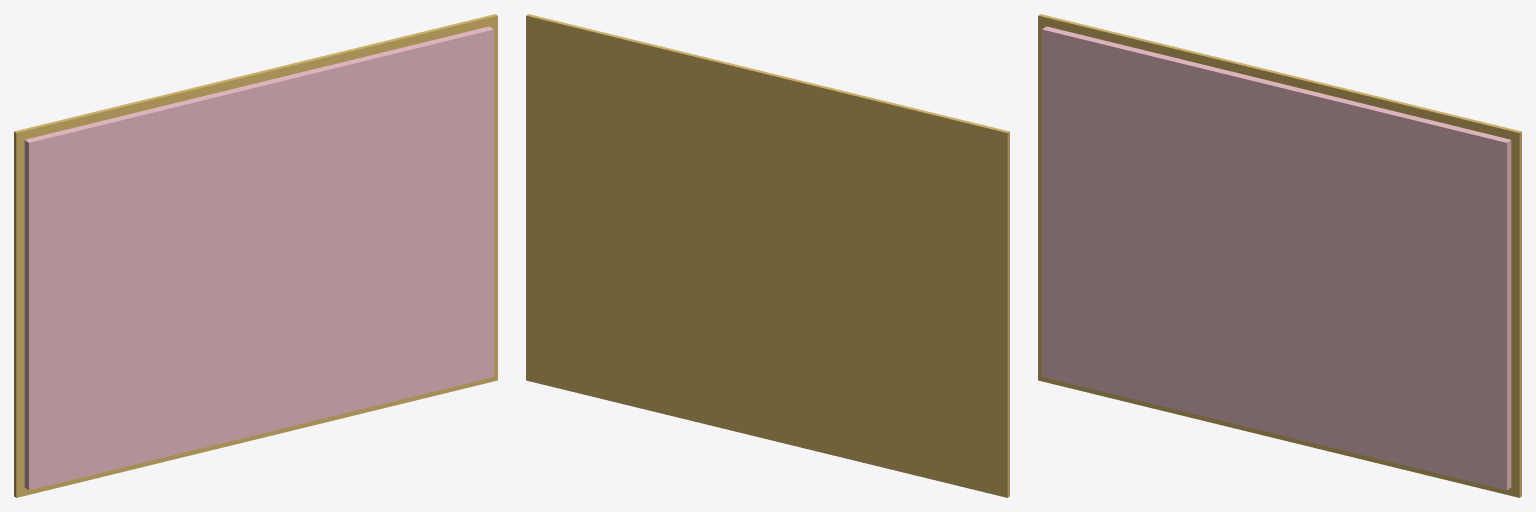
Rendered from dance_floor.glb.
The picture shows the model from 3 angles, left to right: view 1: azimuth 30°, elevation 25°; view 2: azimuth 150°, elevation 25°; view 3: azimuth 330°, elevation 25°; orthographic projection.
Parts seen in each view (by area): view 1: platform, gold_trim; view 2: gold_trim; view 3: platform, gold_trim.
Part boxes in pixels (bbox=[...]): platform: bbox=[24, 26, 493, 490]; gold_trim: bbox=[14, 14, 497, 497]; gold_trim: bbox=[526, 14, 1009, 497]; platform: bbox=[1042, 26, 1511, 490]; gold_trim: bbox=[1038, 14, 1521, 497].
Size of the model in its own units: 4.35 by 3.15 by 0.1025.
